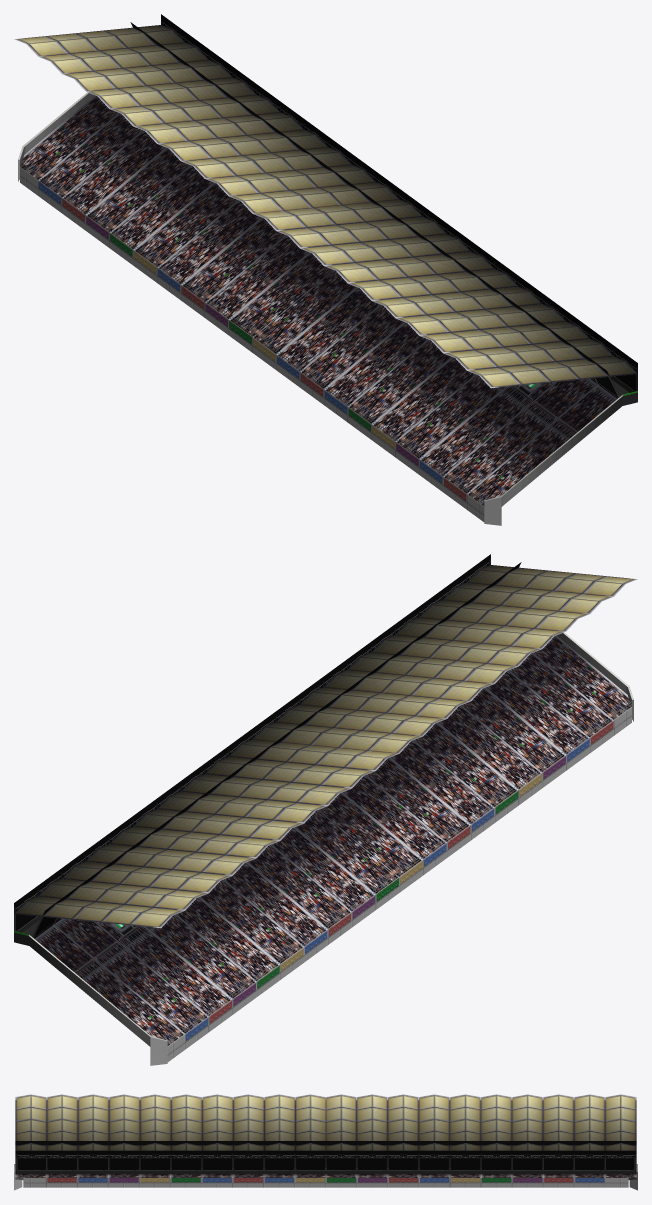
3 views of the same model, one above another, from view 1: azimuth 30°, elevation 25°; view 2: azimuth 150°, elevation 25°; view 3: azimuth 270°, elevation 25° (orthographic). The views are drawn at different scales.
Size of the model in its own units: 23 by 21.2 by 129.
Materials: 19 (19 with a texture image).
